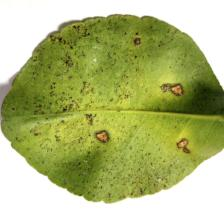canker: (28, 33, 198, 171)
